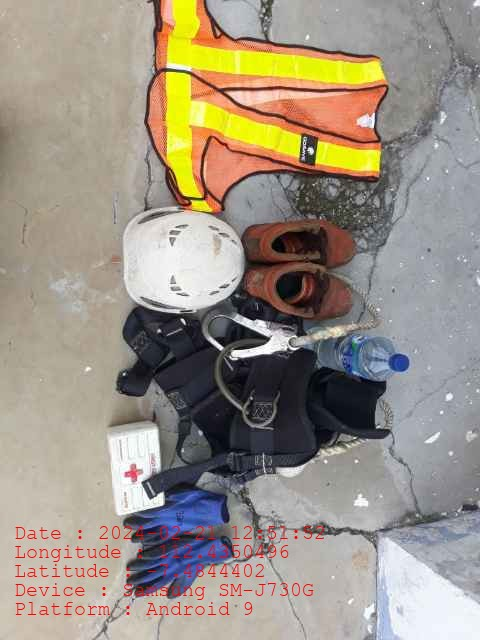HELM: (125, 208, 242, 312)
SEPATU: (244, 222, 359, 319)
